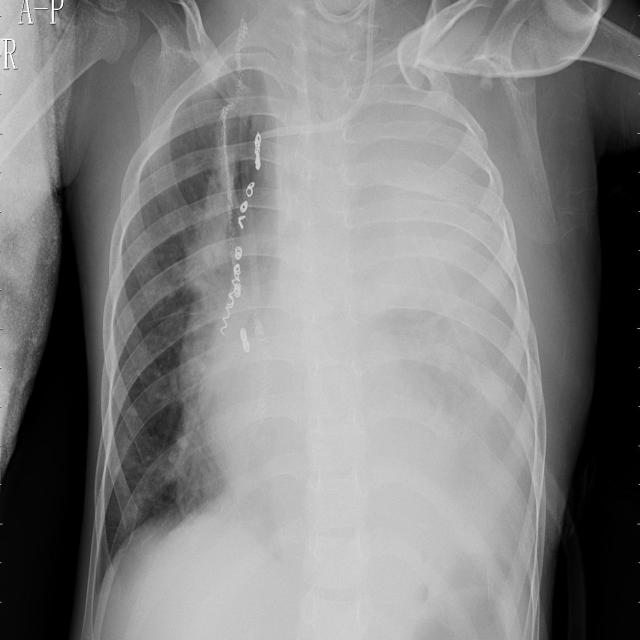high-pneumonia: (357, 79, 540, 504), (178, 66, 261, 309)
low-pneumonia: (162, 305, 228, 523)
